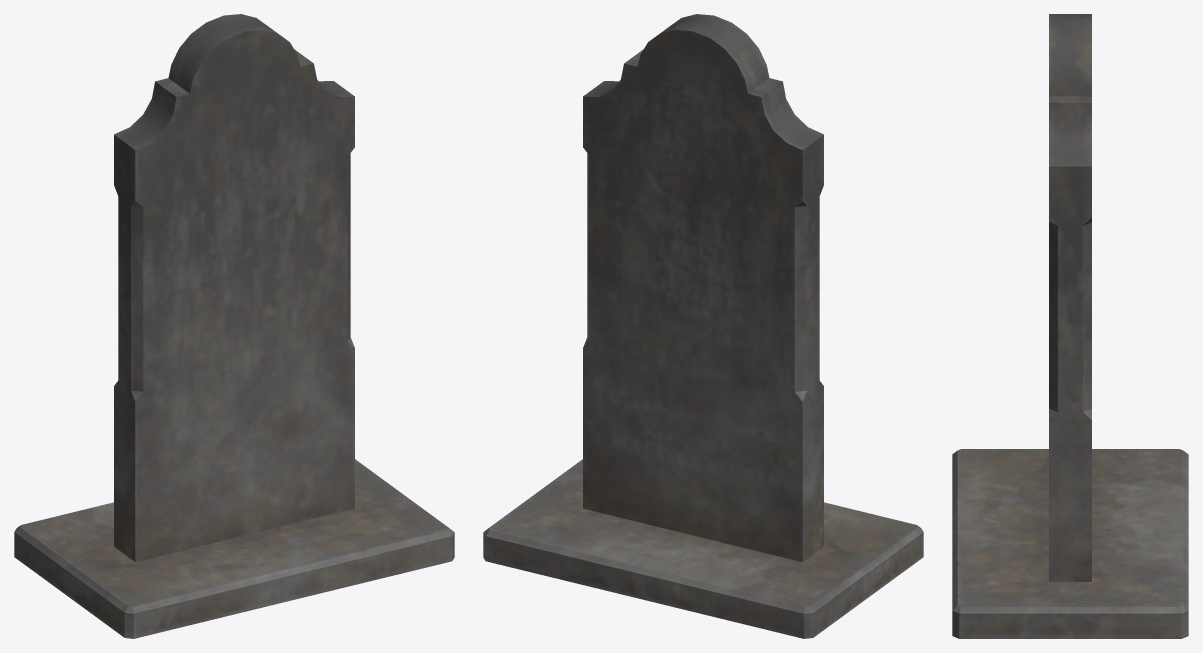
The model's file is Cemetery_OBJ_Tombstone_04.fbx.
3 renders of one model, left to right at view 1: azimuth 30°, elevation 25°; view 2: azimuth 150°, elevation 25°; view 3: azimuth 270°, elevation 25°, orthographic.
Parts seen in each view (by area): view 1: Cemetery_OBJ_Tombstone_04; view 2: Cemetery_OBJ_Tombstone_04; view 3: Cemetery_OBJ_Tombstone_04.
Part boxes in pixels (box(x1,y1,x2,y2)): Cemetery_OBJ_Tombstone_04: box(14, 14, 454, 638); Cemetery_OBJ_Tombstone_04: box(483, 14, 923, 638); Cemetery_OBJ_Tombstone_04: box(952, 14, 1188, 638).
Bounding box in the file's own units: 102 × 158 × 62.9.
1 material, 1 textured.
